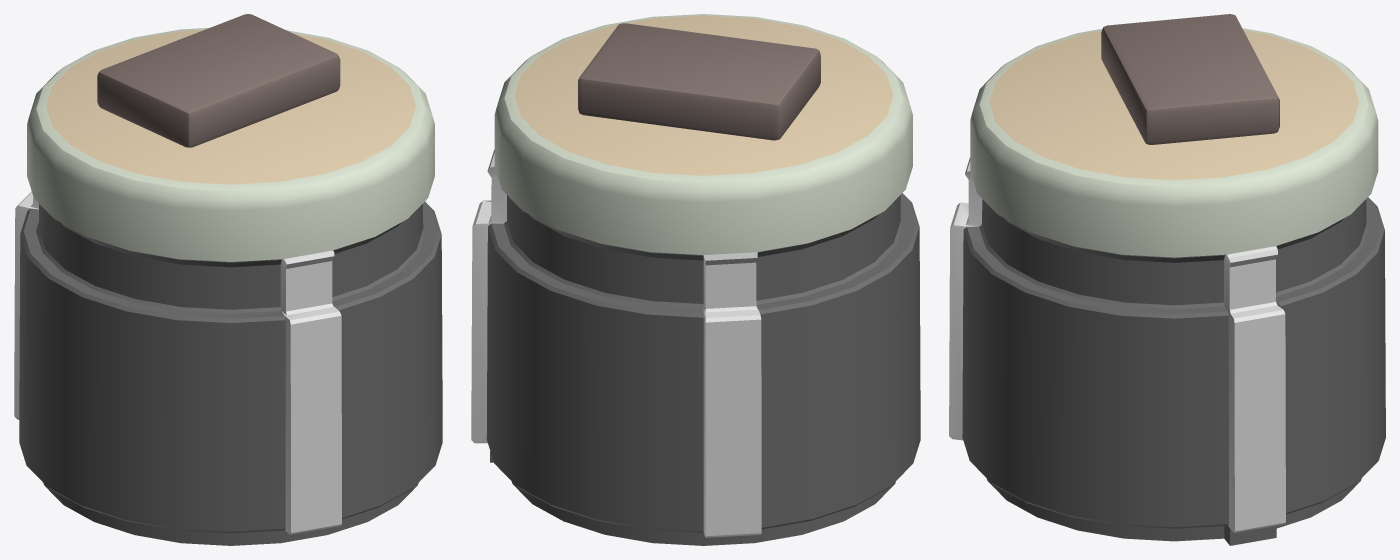
File: Table_03.fbx
The picture shows the model from 3 angles, left to right: view 1: azimuth 30°, elevation 25°; view 2: azimuth 150°, elevation 25°; view 3: azimuth 270°, elevation 25°; orthographic projection. The views are drawn at different scales.
Parts seen in each view (by area): view 1: Cylinder.043; view 2: Cylinder.043; view 3: Cylinder.043.
Part boxes in pixels (x1,y1,x2,y2): Cylinder.043: [14, 14, 442, 545]; Cylinder.043: [471, 14, 920, 545]; Cylinder.043: [949, 14, 1385, 545].
Bounding box in the file's own units: 93.19 × 95.29 × 94.6.
